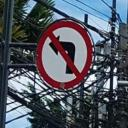NoVirarEsquerda: (38, 22, 90, 88)
